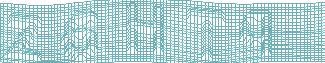6: (60, 9, 101, 61)
H: (123, 1, 166, 57)
T: (185, 6, 225, 61)
Z: (3, 12, 44, 63)
q: (239, 7, 274, 59)
